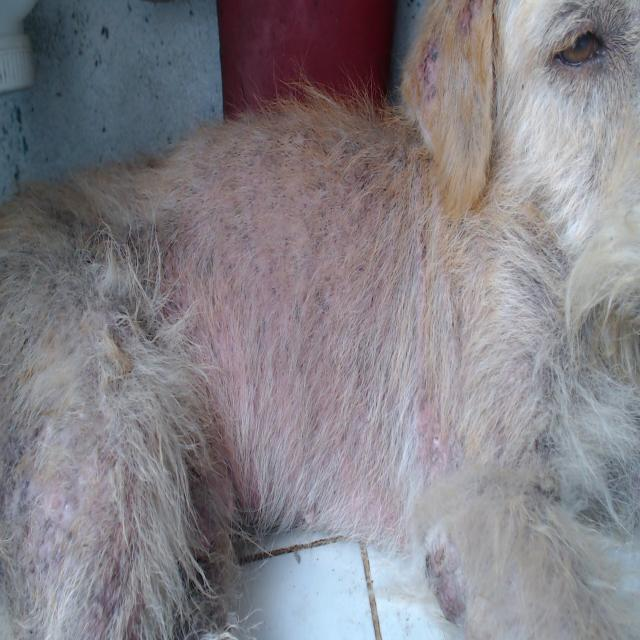demodicosis: (221, 184, 397, 450), (4, 463, 130, 596), (408, 40, 453, 114), (429, 543, 463, 609), (457, 0, 470, 49)
